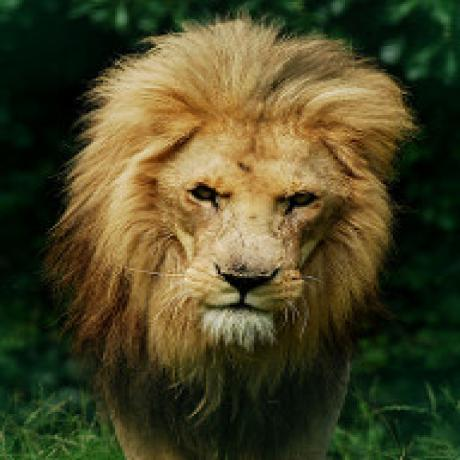Lion: (53, 15, 412, 460)
